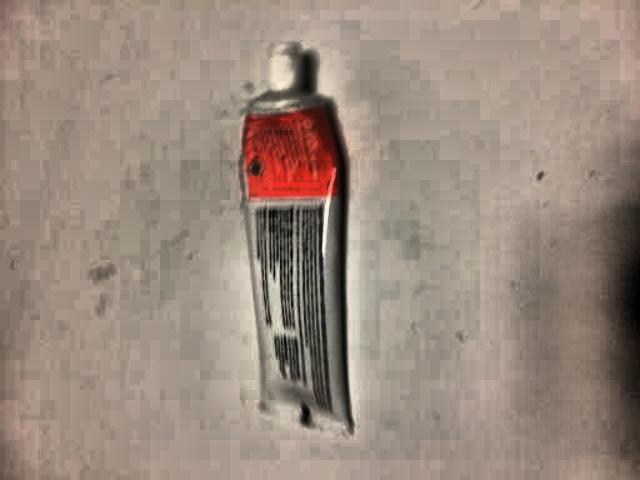Plastic: (223, 30, 375, 453)
